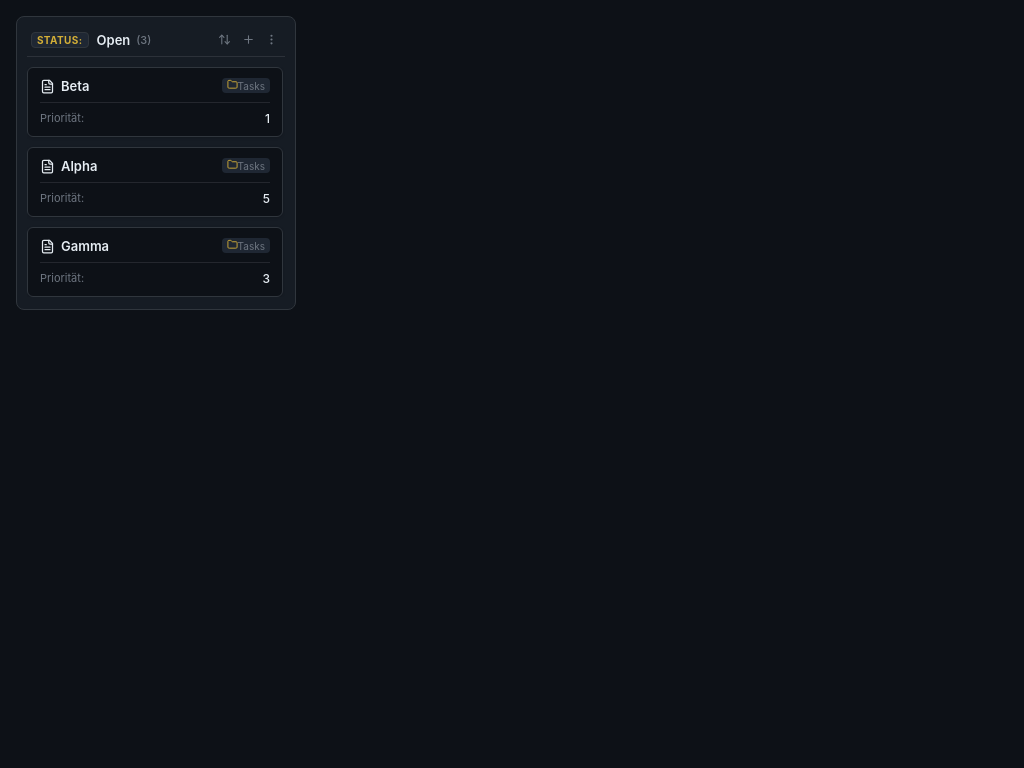
Test case: Base Kanban Board View (`type: board`) › opens sort popover, sorts column cards dynamically by name, ctime and custom property, and persists configuration
Click the button with class "base-board-col-sort-btn" at (224, 40), box top-left (214, 29), bottom-right (235, 50)
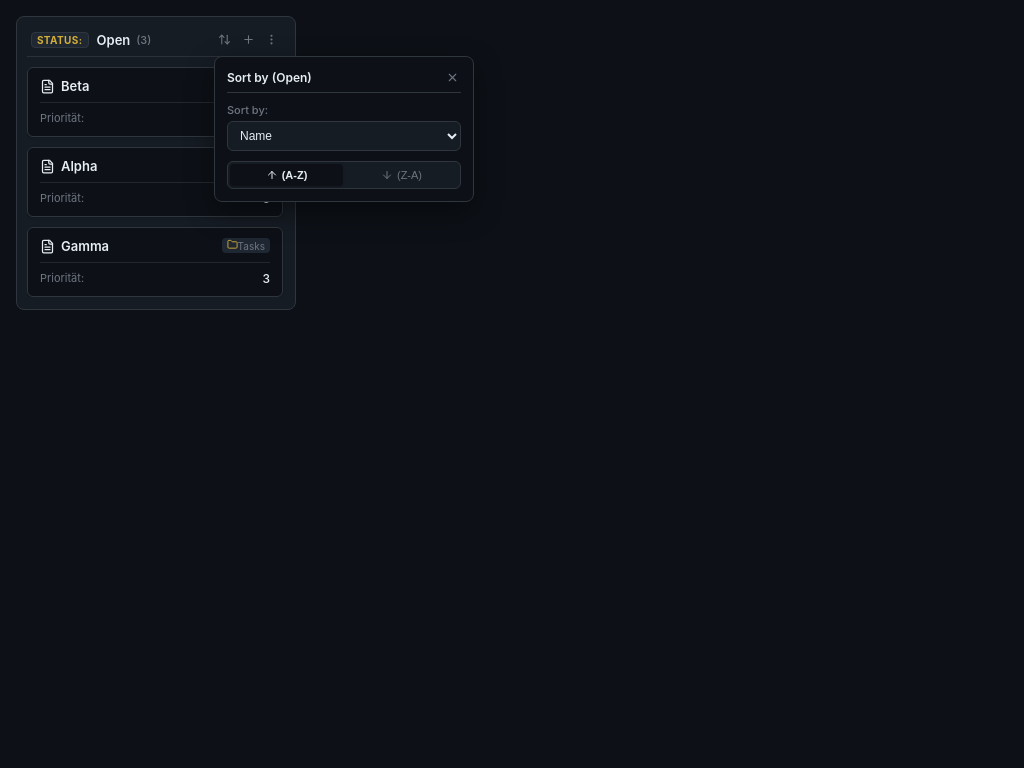
Result: the dialog with class "base-board-sort-popover" is shown at top-left (214, 56), bottom-right (474, 202)
Result: the dropdown with class "base-board-sort-select" is shown
Select "Name" in the dropdown with class "base-board-sort-select" at (344, 136), box top-left (227, 121), bottom-right (461, 151)
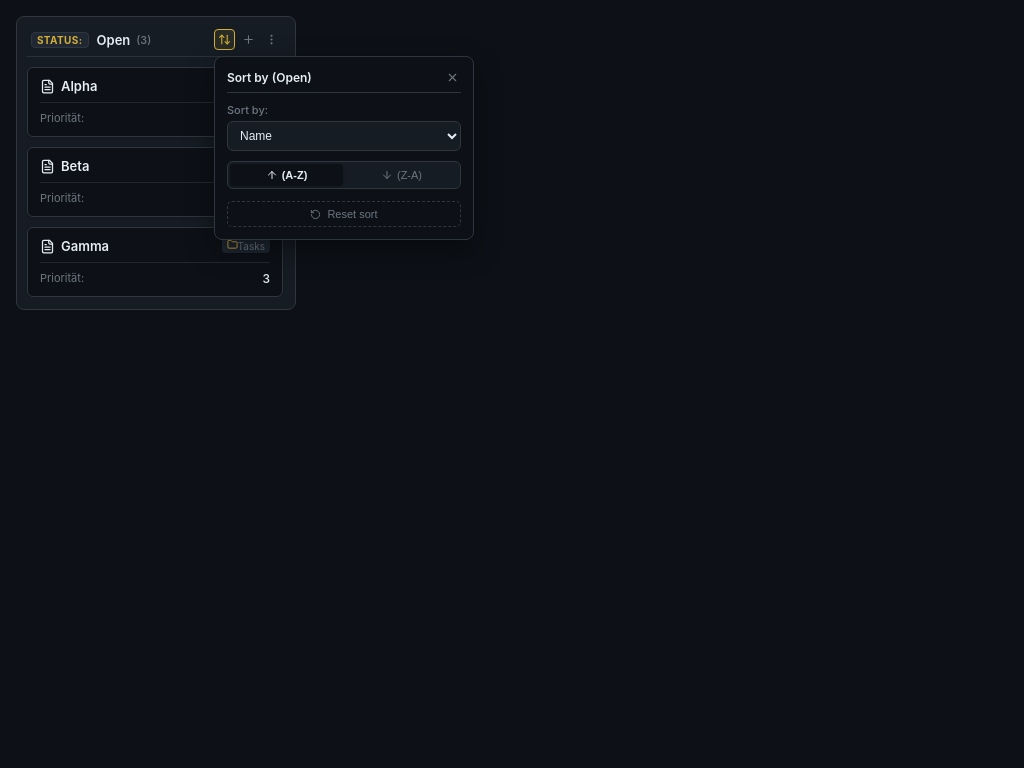
Result: the button with class "board-sort-dir-desc" is shown
Click the button with class "board-sort-dir-desc" at (402, 175), box top-left (345, 164), bottom-right (458, 186)
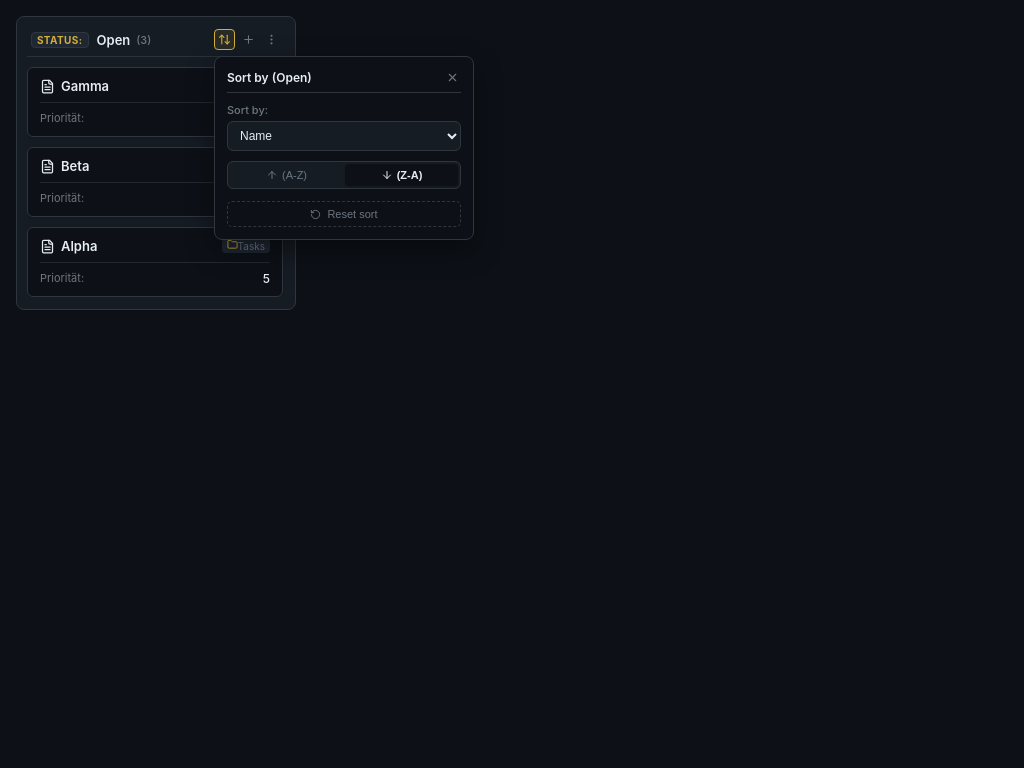
Select "Priorität" in the dropdown with class "base-board-sort-select" at (344, 136), box top-left (227, 121), bottom-right (461, 151)
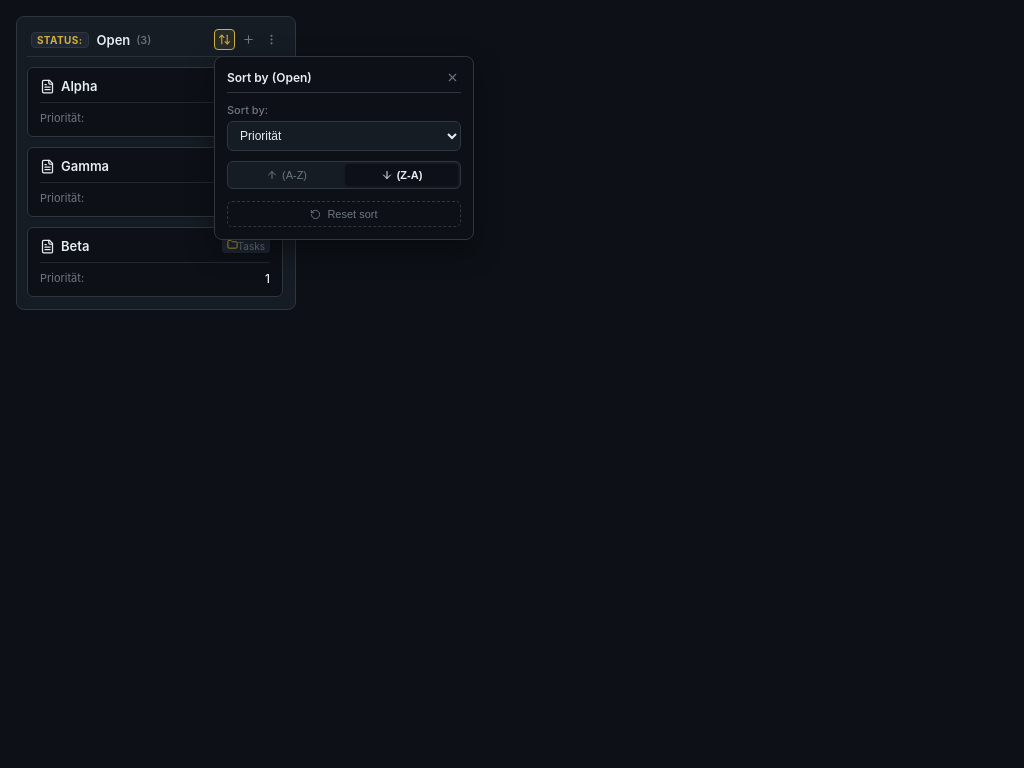
Result: the button with class "base-board-sort-reset-btn" is shown
Click the button with class "base-board-sort-reset-btn" at (344, 214), box top-left (227, 201), bottom-right (461, 227)
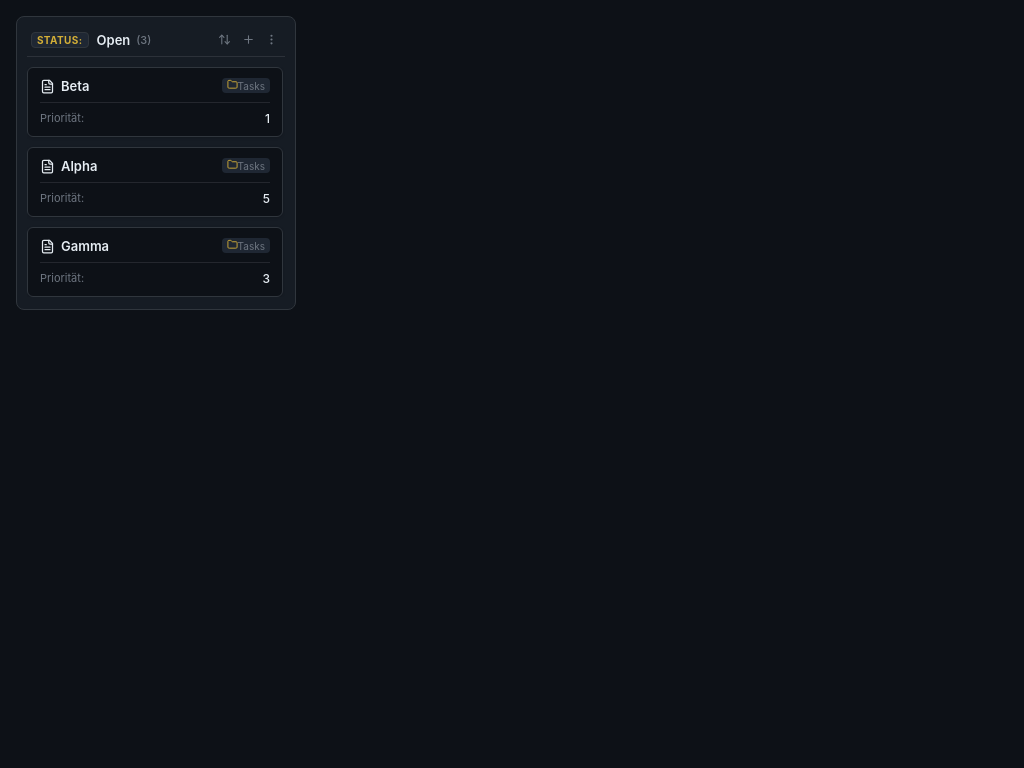
Result: the dialog with class "base-board-sort-popover" is gone
